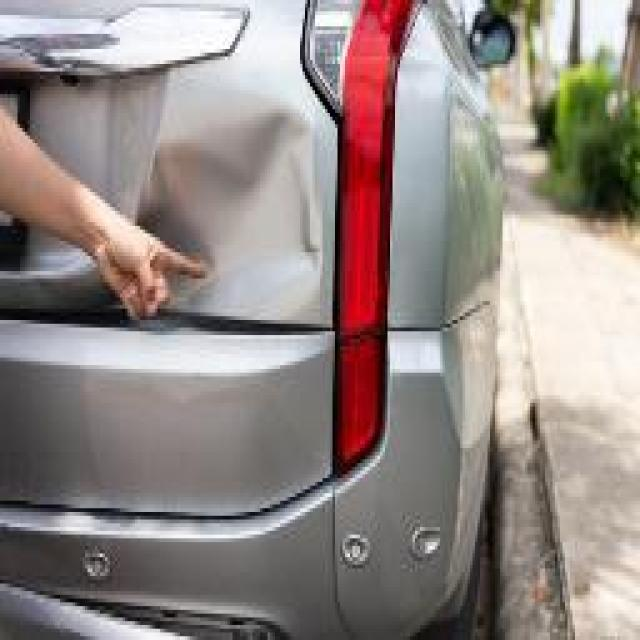Dickey: (118, 90, 325, 343)
